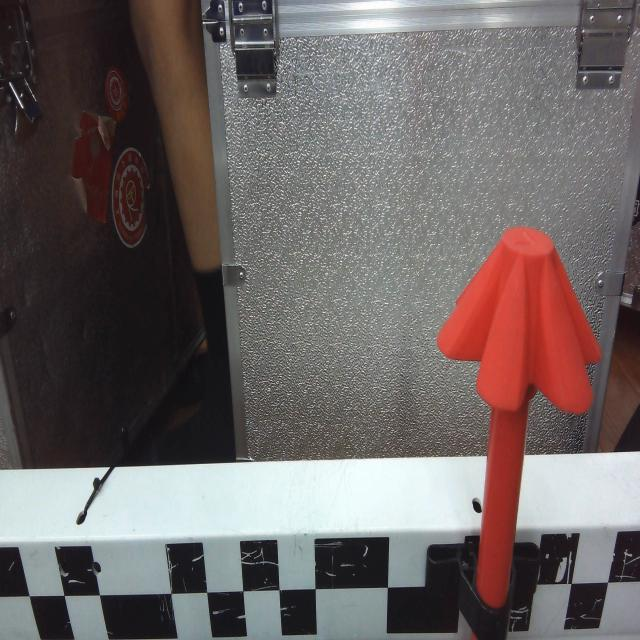zred-Stake-Head: (437, 227, 602, 414)
